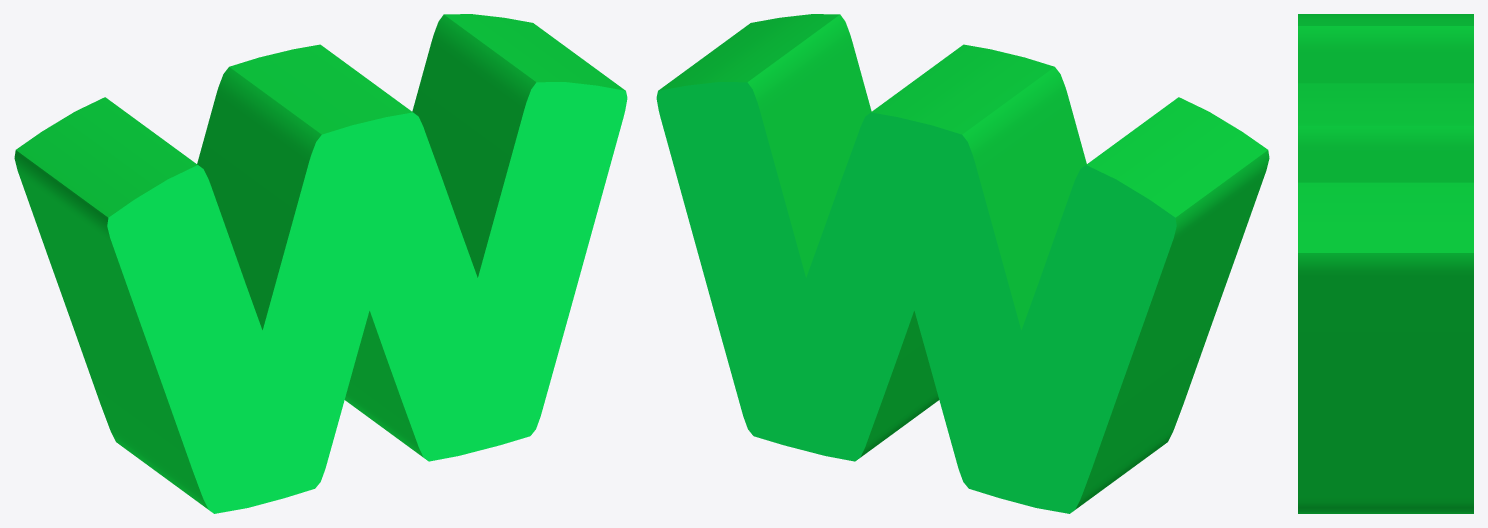
File: W_Zyzol_Green.glb
3 views of the same model, side by side, from view 1: azimuth 30°, elevation 25°; view 2: azimuth 150°, elevation 25°; view 3: azimuth 270°, elevation 25° (orthographic). The views are drawn at different scales.
Visible parts, largest first — view 1: w_Zyzol_Green; view 2: w_Zyzol_Green; view 3: w_Zyzol_Green.
Part boxes in pixels (x1,y1,x2,y2): w_Zyzol_Green: (14, 14, 627, 513); w_Zyzol_Green: (656, 14, 1269, 513); w_Zyzol_Green: (1298, 14, 1473, 513).
Size of what is drawn, in the model's own units: 0.1458 by 0.0956 by 0.045.
2 materials, 2 textured.
